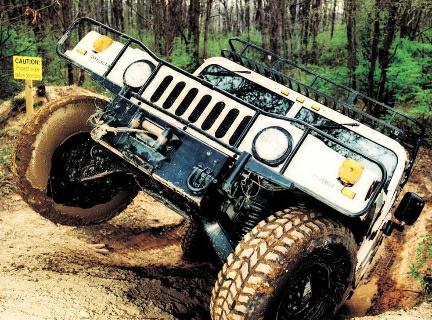红旗-H7: (12, 17, 423, 320)
